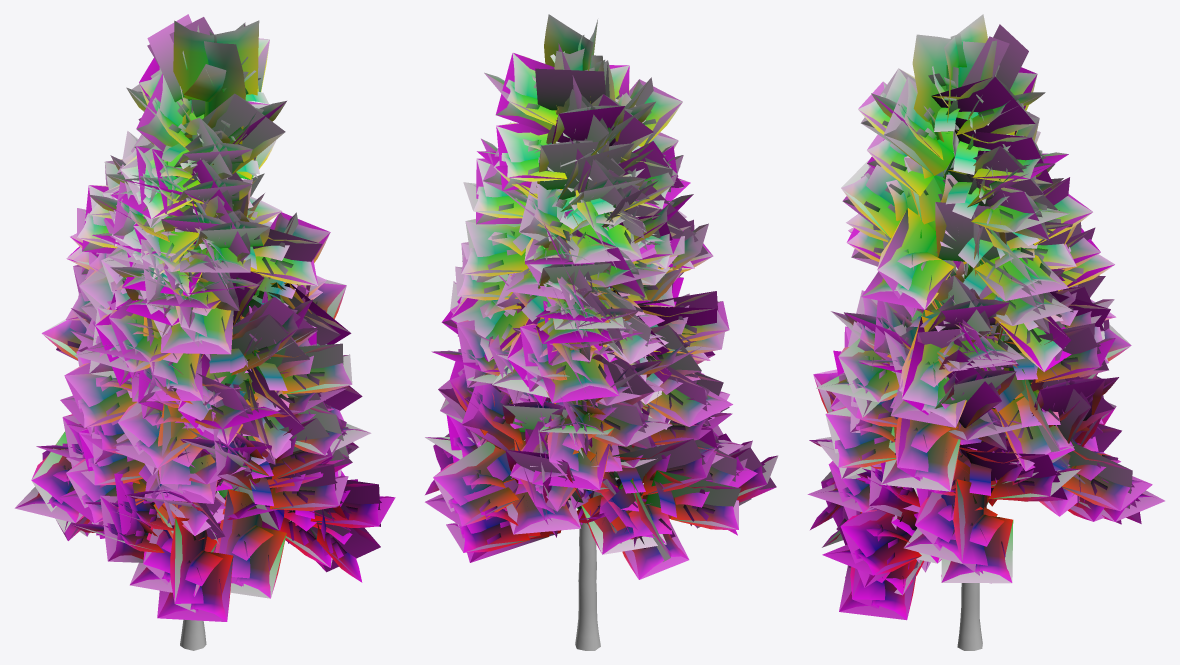
Rendered from pine_03_3.FBX.
3 views of the same model, side by side, from view 1: azimuth 30°, elevation 25°; view 2: azimuth 150°, elevation 25°; view 3: azimuth 270°, elevation 25° (orthographic). The views are drawn at different scales.
Parts seen in each view (by area): view 1: pine_leaves_03_3_lod_0, pine_leaves_03_3_shadow, pine_tree_03_3_lod_0; view 2: pine_leaves_03_3_lod_0, pine_leaves_03_3_shadow, pine_tree_03_3_lod_0; view 3: pine_leaves_03_3_lod_0, pine_leaves_03_3_shadow, pine_tree_03_3_lod_0.
Part boxes in pixels (left/top/right/bottom): pine_leaves_03_3_lod_0: left=16, top=20, right=393, bottom=621; pine_leaves_03_3_shadow: left=14, top=14, right=395, bottom=621; pine_tree_03_3_lod_0: left=180, top=619, right=206, bottom=650; pine_leaves_03_3_lod_0: left=425, top=14, right=777, bottom=579; pine_leaves_03_3_shadow: left=425, top=43, right=778, bottom=579; pine_tree_03_3_lod_0: left=524, top=413, right=643, bottom=650; pine_leaves_03_3_lod_0: left=809, top=14, right=1153, bottom=619; pine_leaves_03_3_shadow: left=807, top=24, right=1164, bottom=620; pine_tree_03_3_lod_0: left=952, top=124, right=982, bottom=650.
Size of what is drawn, in the model's own units: 9.36 by 16.98 by 8.81.
